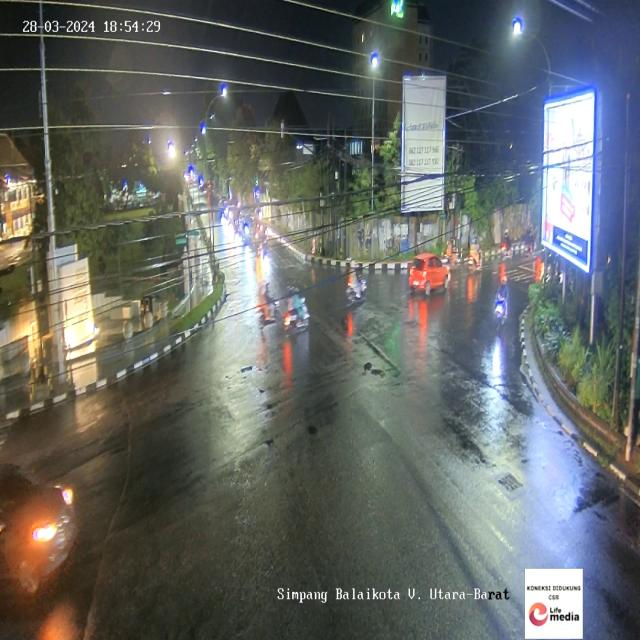car: (0, 463, 78, 599), (410, 255, 450, 296)
motorcycle: (281, 285, 308, 339), (257, 282, 279, 332), (347, 261, 364, 306), (496, 279, 508, 335), (444, 236, 461, 268), (468, 238, 482, 274), (500, 230, 512, 266), (526, 226, 535, 260)
